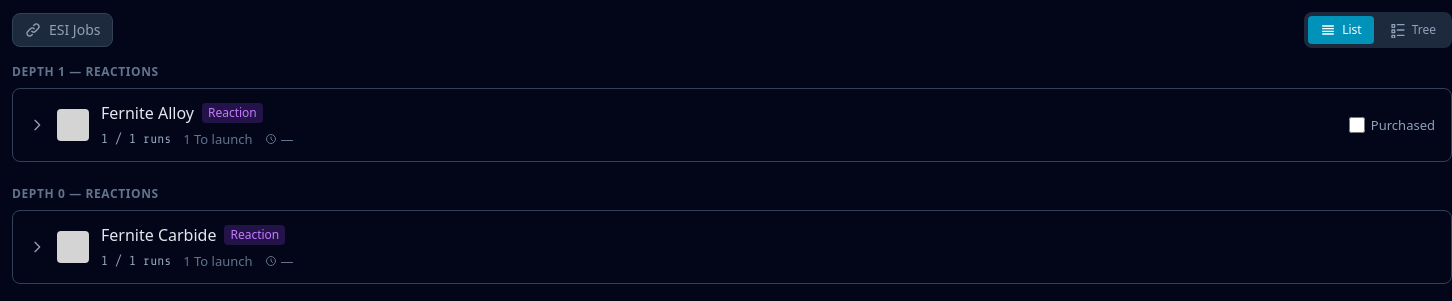
Test case: StepsTab failed products › shows no warning when the failed products are not computed
Step 1. Click the button "Tree" → (1413, 30), box [1378,16,1448,44]
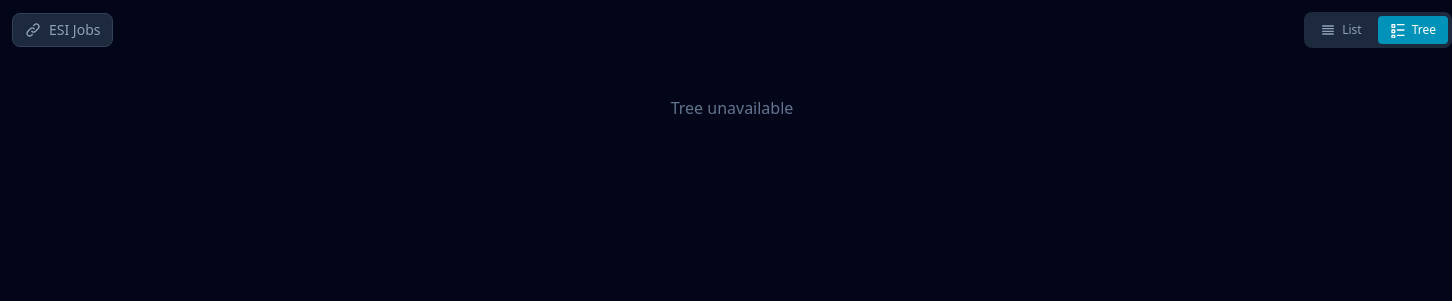
Result: the text "Tree unavailable" is shown at [671,97,793,119]
